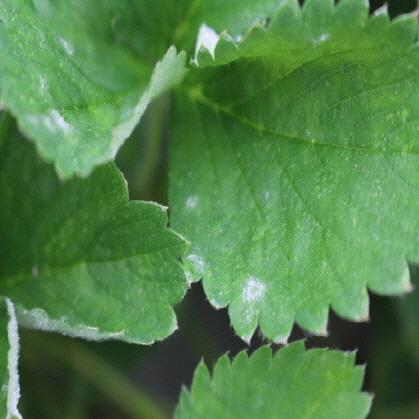Powdery Mildew Leaf: (162, 42, 418, 346), (0, 104, 194, 346), (0, 0, 196, 184), (0, 294, 25, 418)
